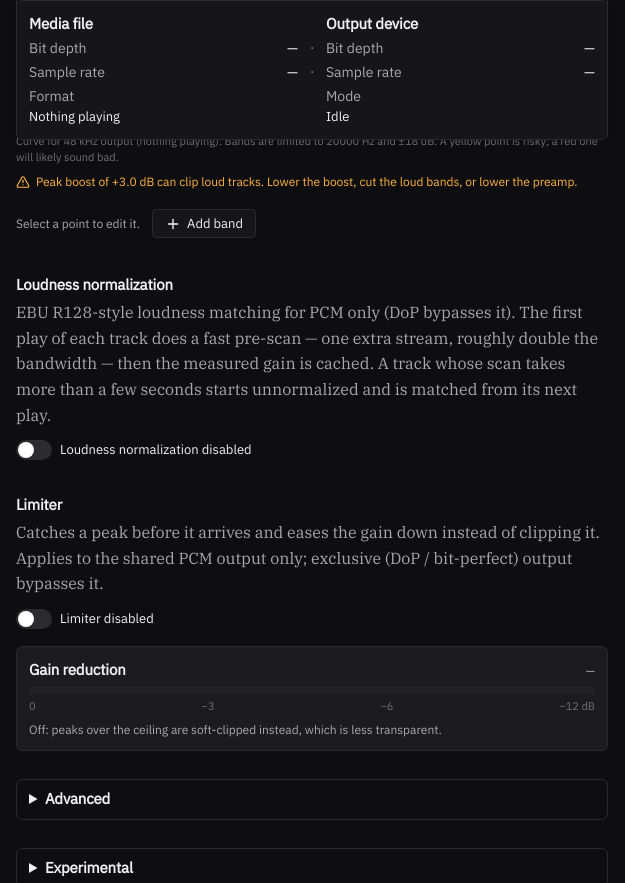
Test: Settings: EQ and loudness › toggles loudness normalisation and validates the target
(page scrolled)
Click the switch next to "Loudness normalization disabled". click: click(34, 450)
box: [16,440,52,460]
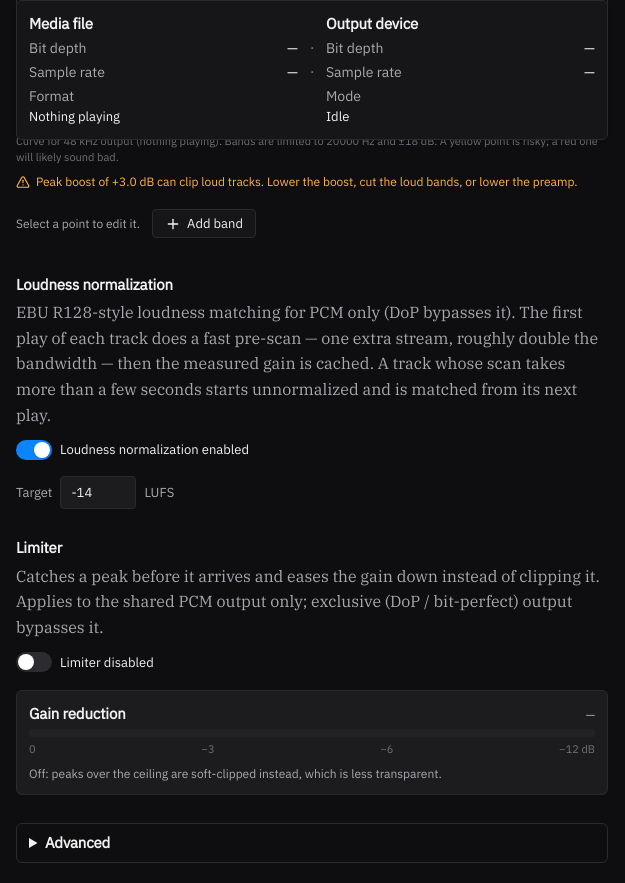
Replace the text in the number field labelled "Target LUFS" with "-23". click: (98, 492)
box: [60,476,136,509]
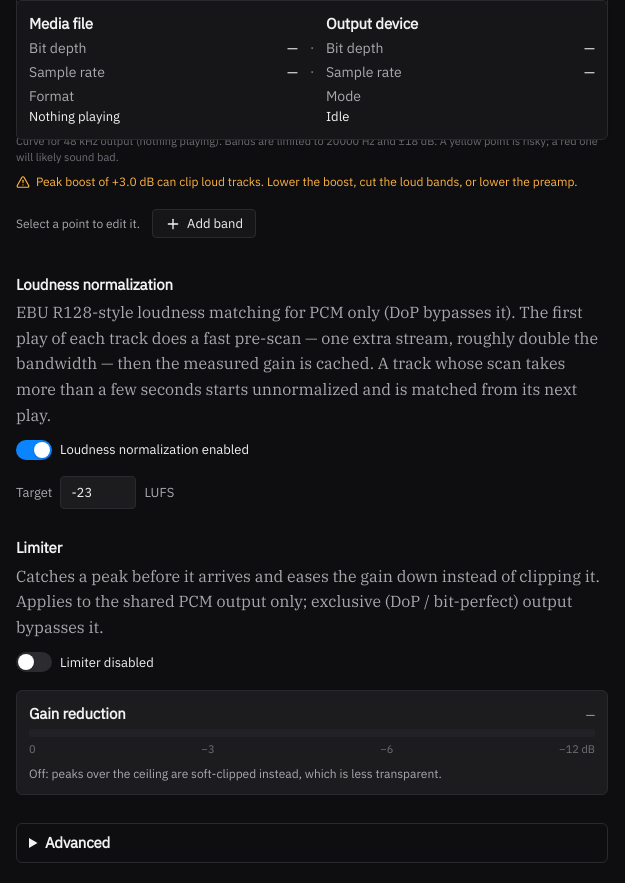
Replace the text in the number field labelled "Target LUFS" with "5". click: (98, 492)
box: [60,476,136,509]
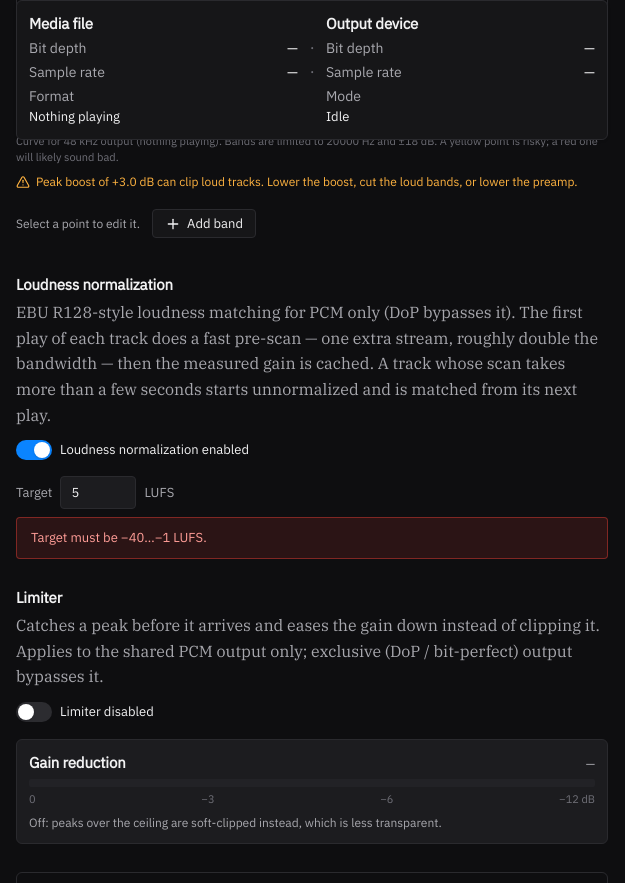
Now the text "Target must be −40…−1 LUFS." is shown, box [16,517,608,559]
